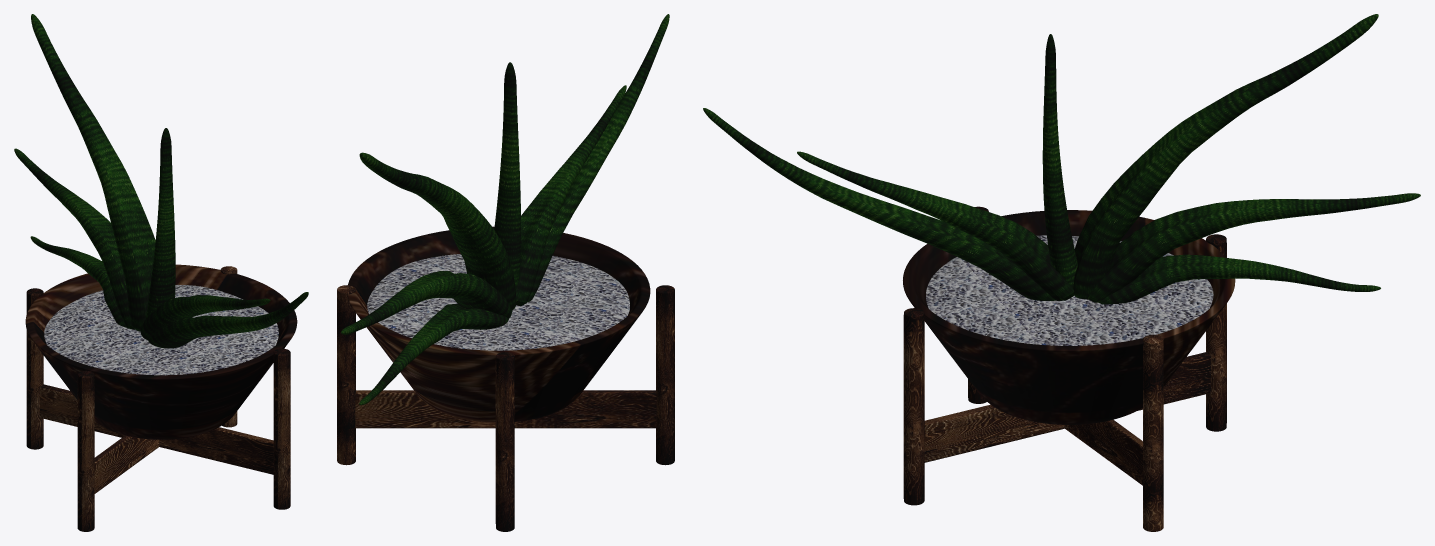
Rendered from zen-pot.obj.
3 renders of one model, left to right at view 1: azimuth 30°, elevation 25°; view 2: azimuth 150°, elevation 25°; view 3: azimuth 270°, elevation 25°, orthographic. The views are drawn at different scales.
Parts seen in each view (by area): view 1: Vase_95; view 2: Vase_95; view 3: Vase_95.
Part boxes in pixels (<box>): Vase_95: <box>14,14,308,531</box>; Vase_95: <box>337,14,674,531</box>; Vase_95: <box>703,14,1420,531</box>.
Bounding box in the file's own units: 50.76 × 75.35 × 109.
3 materials, 3 textured.
